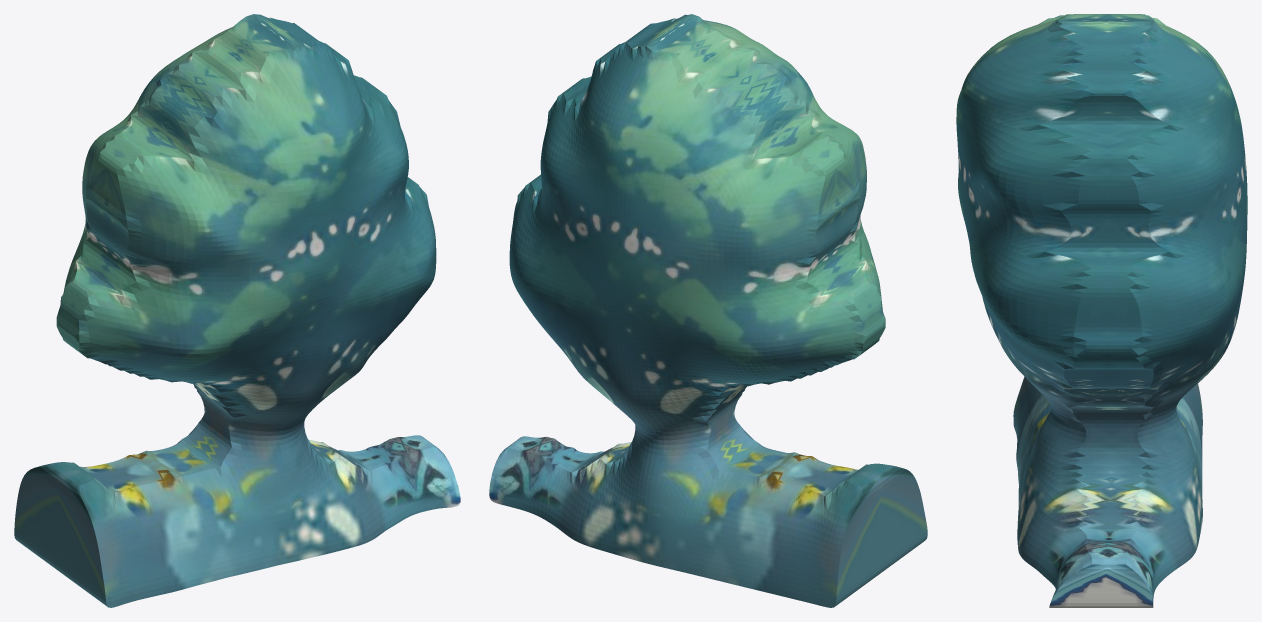
The model's file is tree_round.glb.
3 renders of one model, left to right at view 1: azimuth 30°, elevation 25°; view 2: azimuth 150°, elevation 25°; view 3: azimuth 270°, elevation 25°, orthographic. The views are drawn at different scales.
Parts seen in each view (by area): view 1: geometry_0; view 2: geometry_0; view 3: geometry_0.
Part boxes in pixels (x1,y1,x2,y2): geometry_0: (14, 14, 460, 607); geometry_0: (489, 14, 927, 607); geometry_0: (956, 14, 1247, 607).
Bounding box in the file's own units: 4.99 × 6.32 × 3.27.
1 material, 1 textured.
